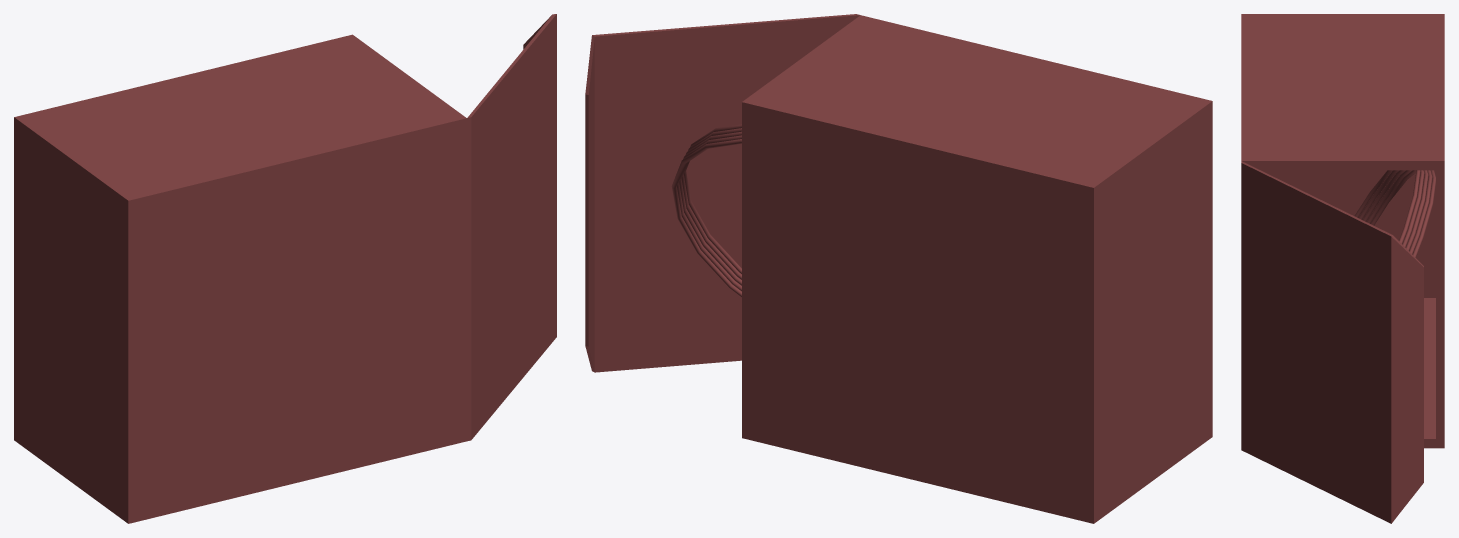
The model's file is Box_of_Guitar_Strings.fbx.
The picture shows the model from 3 angles, left to right: view 1: azimuth 30°, elevation 25°; view 2: azimuth 150°, elevation 25°; view 3: azimuth 270°, elevation 25°; orthographic projection. The views are drawn at different scales.
Visible parts, largest first — view 1: Box_01, Box_02; view 2: Box_01, Box_02, String_01, String_02, String_03, String_04, String_05; view 3: Box_02, Box_01, String_01, String_02, String_03, String_04, String_05.
Part boxes in pixels (x1,y1,x2,y2): Box_01: (14, 34, 466, 523); Box_02: (467, 14, 556, 441); Box_01: (742, 15, 1212, 523); Box_02: (585, 14, 860, 372); String_01: (671, 139, 741, 297); String_02: (677, 135, 741, 290); String_03: (679, 131, 741, 285); String_04: (681, 128, 741, 279); String_05: (684, 124, 741, 273); Box_02: (1241, 161, 1423, 523); Box_01: (1241, 14, 1444, 448); String_01: (1370, 170, 1435, 257); String_02: (1366, 170, 1432, 254); String_03: (1362, 170, 1428, 250); String_04: (1358, 170, 1424, 247); String_05: (1354, 170, 1420, 243).
Bounding box in the file's own units: 53.29 × 32.1 × 20.58.
